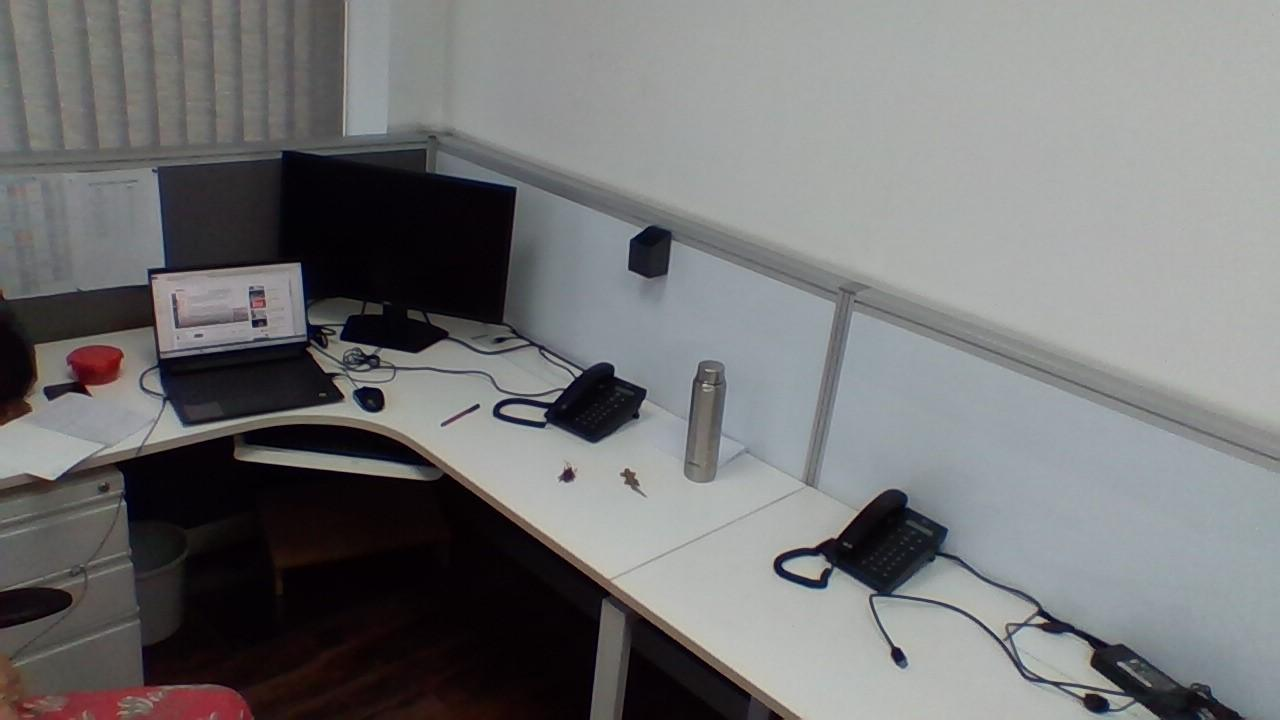cockroach: (556, 460, 582, 486)
lizard: (617, 463, 648, 496)
